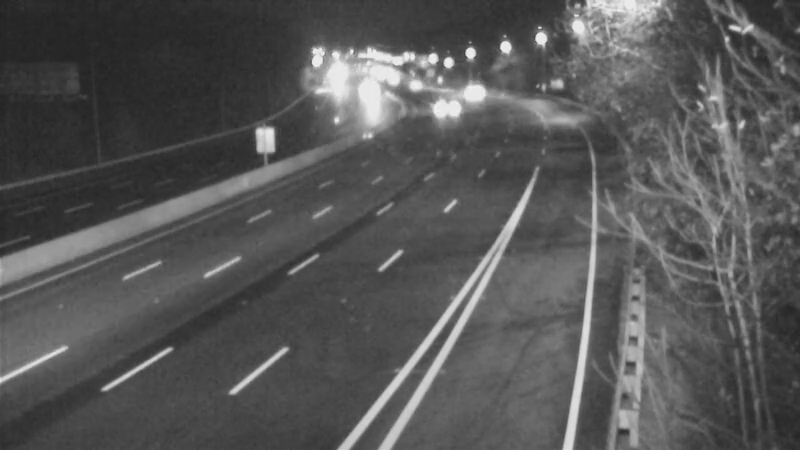vehicle: (389, 62, 439, 112), (446, 69, 496, 119), (418, 84, 468, 134), (342, 73, 392, 123)
